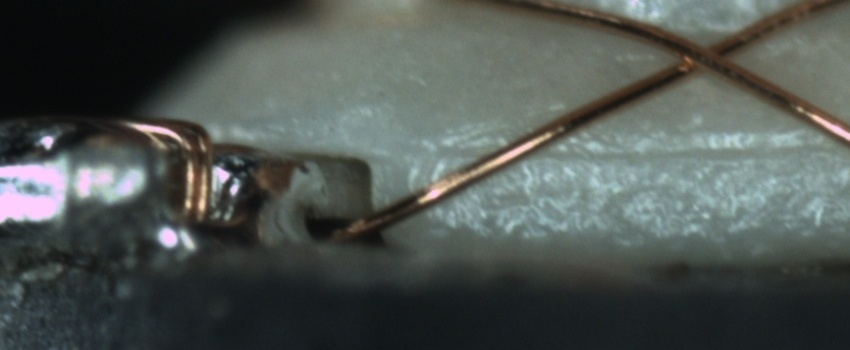CL: (660, 28, 749, 81)
DL: (436, 119, 849, 182)
TE: (112, 112, 228, 224)
